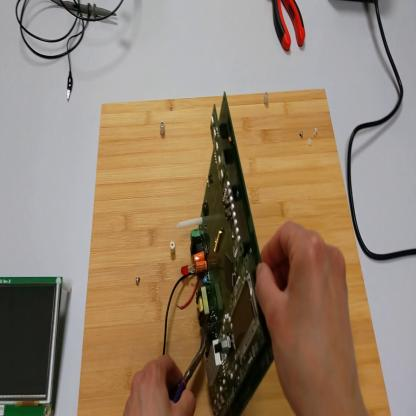hand: (256, 222, 364, 414), (124, 355, 193, 416)
low voltage board: (162, 90, 274, 415)
oscilloscope probe tip: (54, 2, 118, 20)
pliers: (168, 327, 207, 404), (274, 2, 307, 52)
working area: (78, 90, 392, 414)
